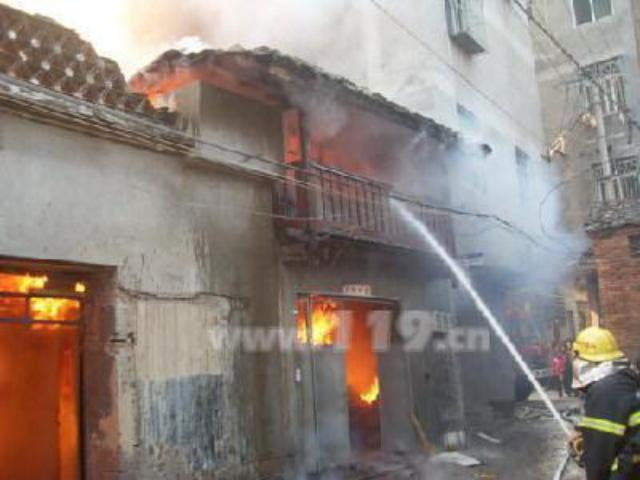fire: (0, 320, 76, 478), (346, 302, 378, 406), (28, 296, 78, 320), (308, 302, 336, 342), (0, 272, 44, 290), (0, 296, 27, 317), (294, 300, 304, 340)
